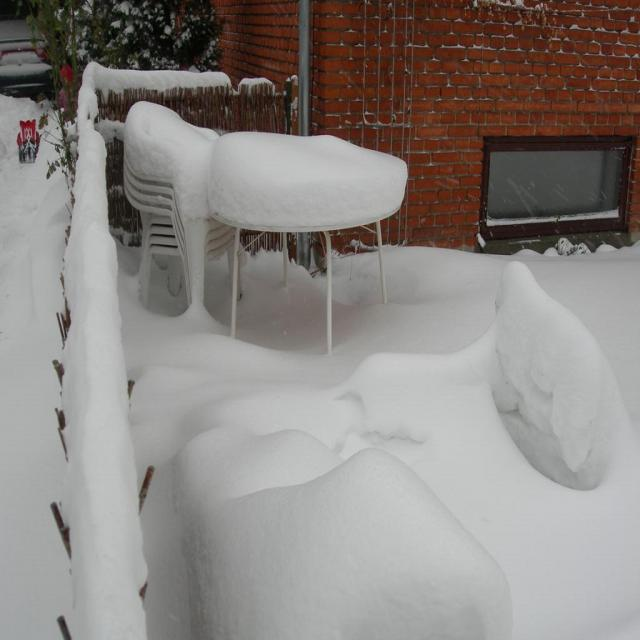table: (205, 132, 415, 349)
